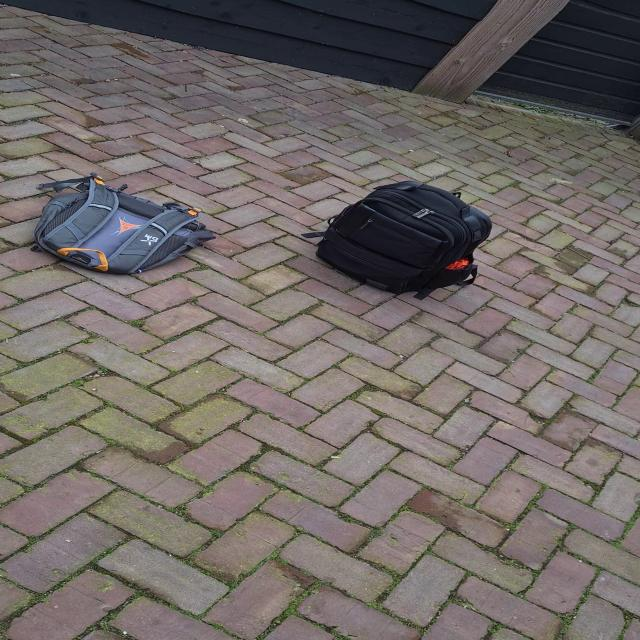backpack: (306, 177, 498, 297), (24, 172, 219, 276)
